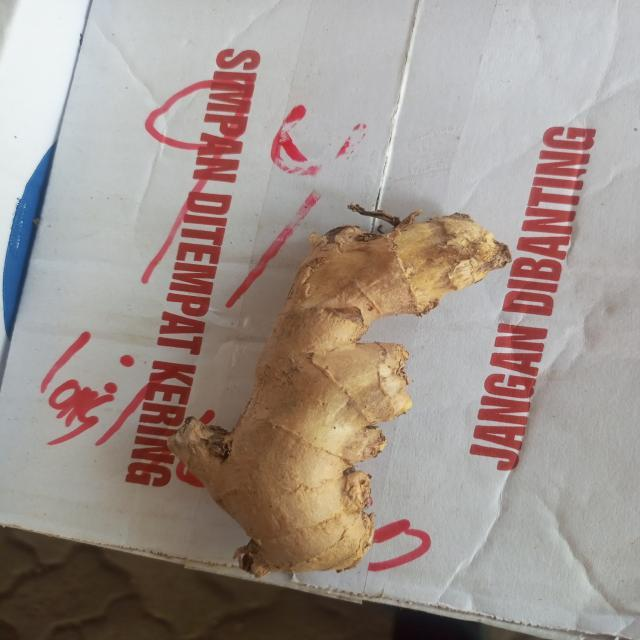ginger: (179, 215, 509, 575)
